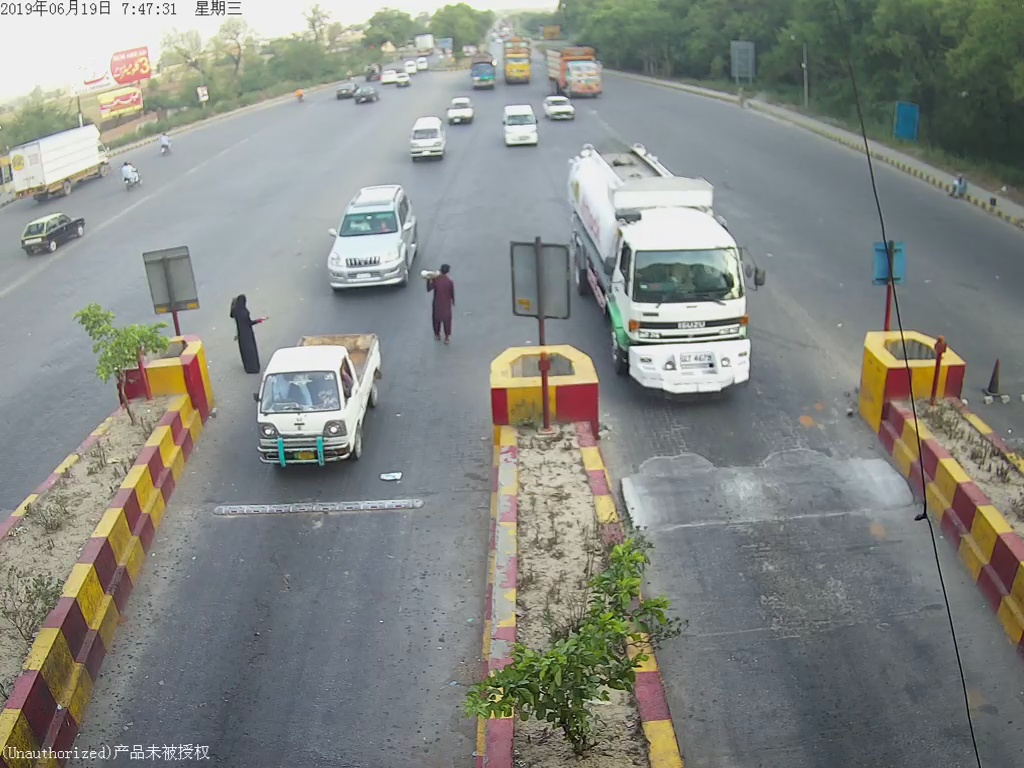Cat-1: (252, 329, 386, 466), (322, 180, 425, 289), (496, 101, 543, 149), (405, 116, 446, 163)
Cat-4: (569, 140, 760, 398), (544, 41, 607, 101), (500, 36, 535, 87), (466, 51, 498, 91)
